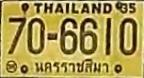0: (119, 17, 136, 55), (27, 17, 44, 53)
1: (105, 17, 110, 54)
6: (79, 17, 96, 54), (60, 17, 76, 54)
7: (7, 16, 25, 53)
NMA: (32, 57, 112, 75)
